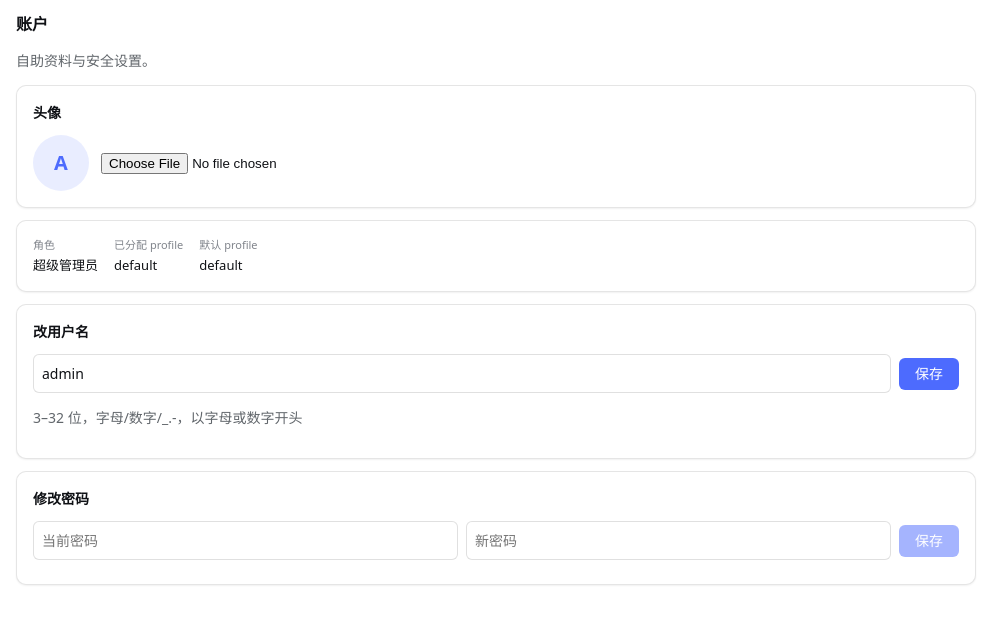
AccountPage (M23) 自助资料 › changes the password via POST /api/auth/change-password
The image size is (993, 641).
Type "old-pass-123" into the password field labelled "当前密码".
click(246, 540); type("old-pass-123")  # box [33,521,458,560]
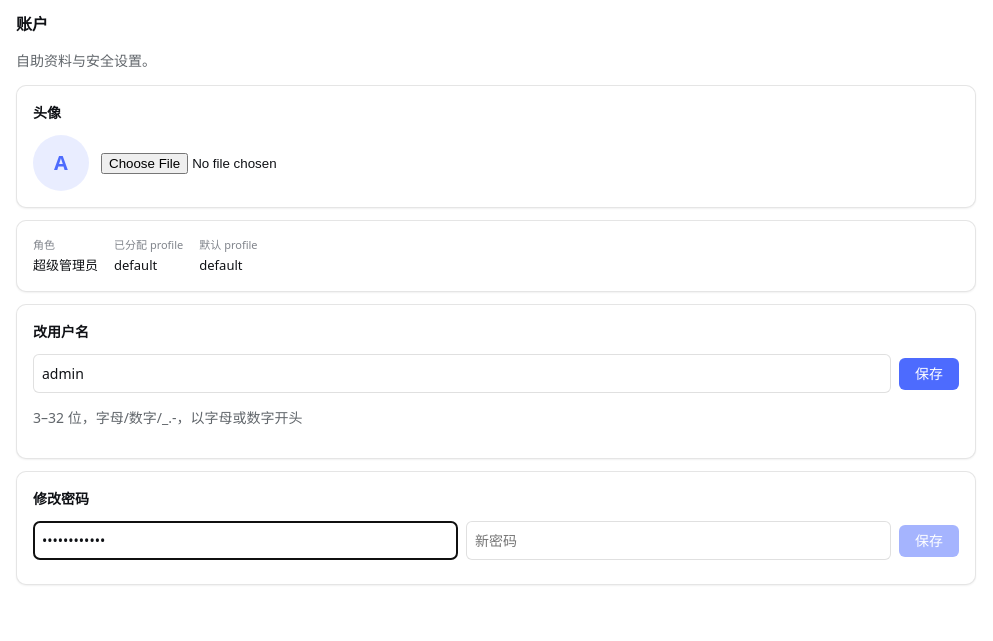
Type "new-pass-123" into the password field labelled "新密码".
click(678, 540); type("new-pass-123")  # box [466,521,891,560]
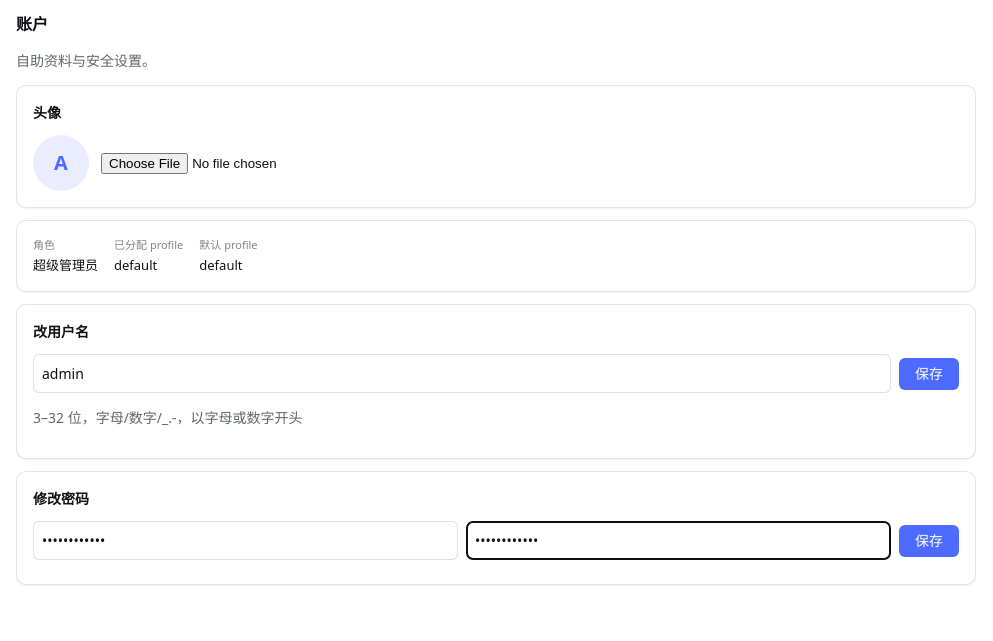
Click the 2nd button "保存".
click(929, 540)  # box [899,524,959,556]
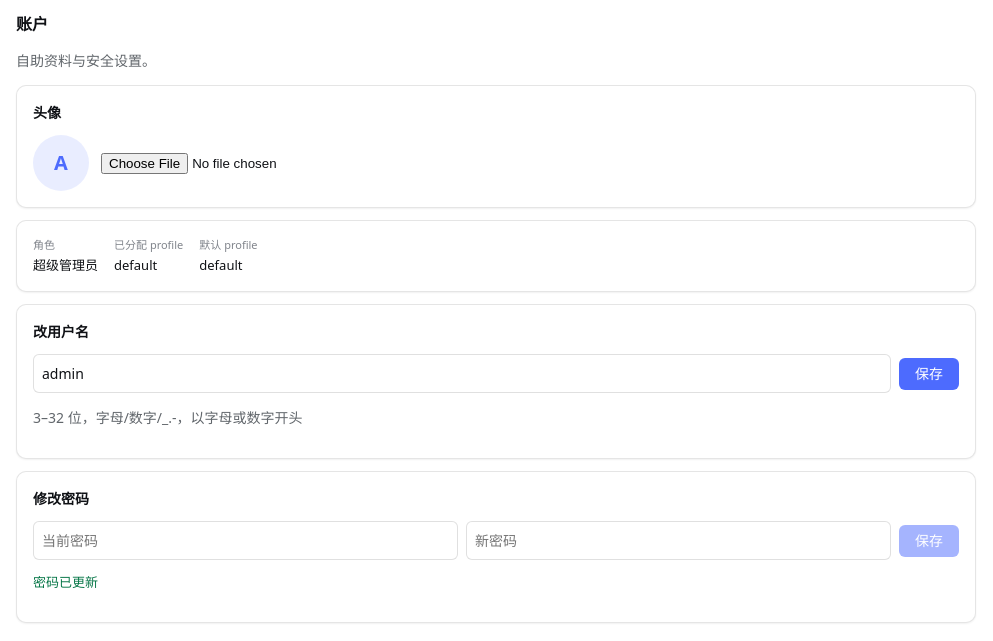
Expected: the text "密码已更新" is shown, [33,573,98,591]
